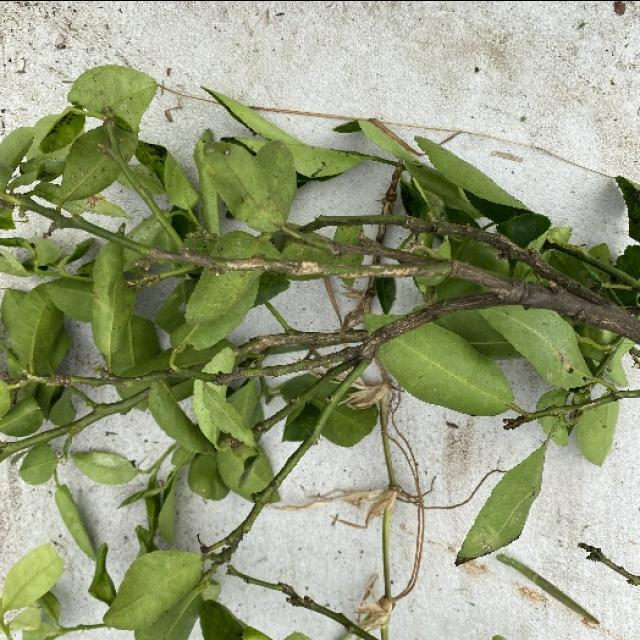organik: (2, 65, 618, 640)
